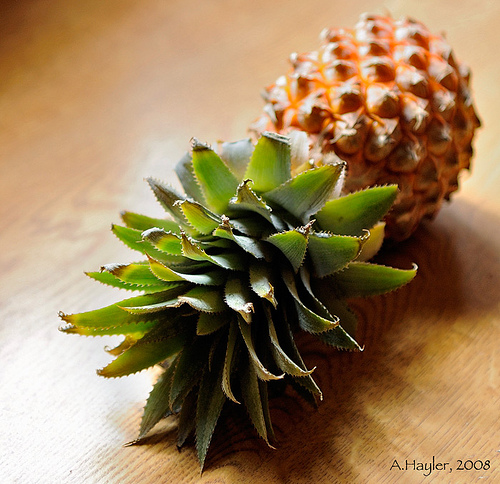pineapple: (55, 12, 481, 476)
